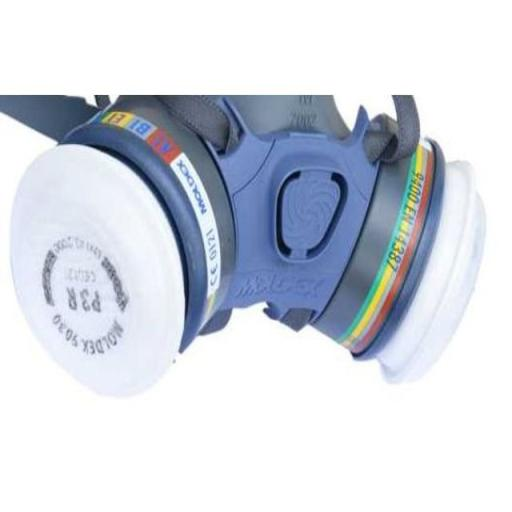mask: (9, 93, 494, 413)
